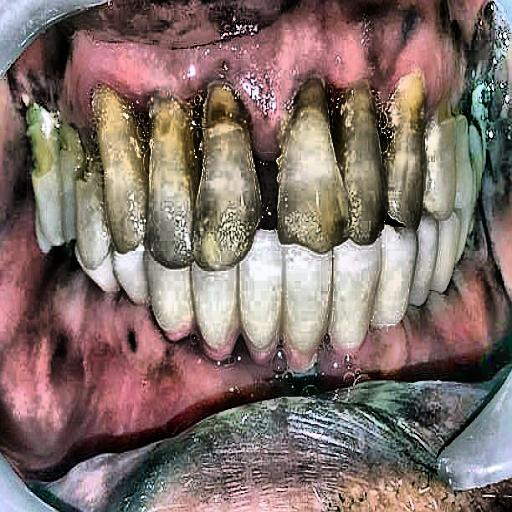Calculus: (269, 48, 512, 248), (15, 48, 261, 228)
